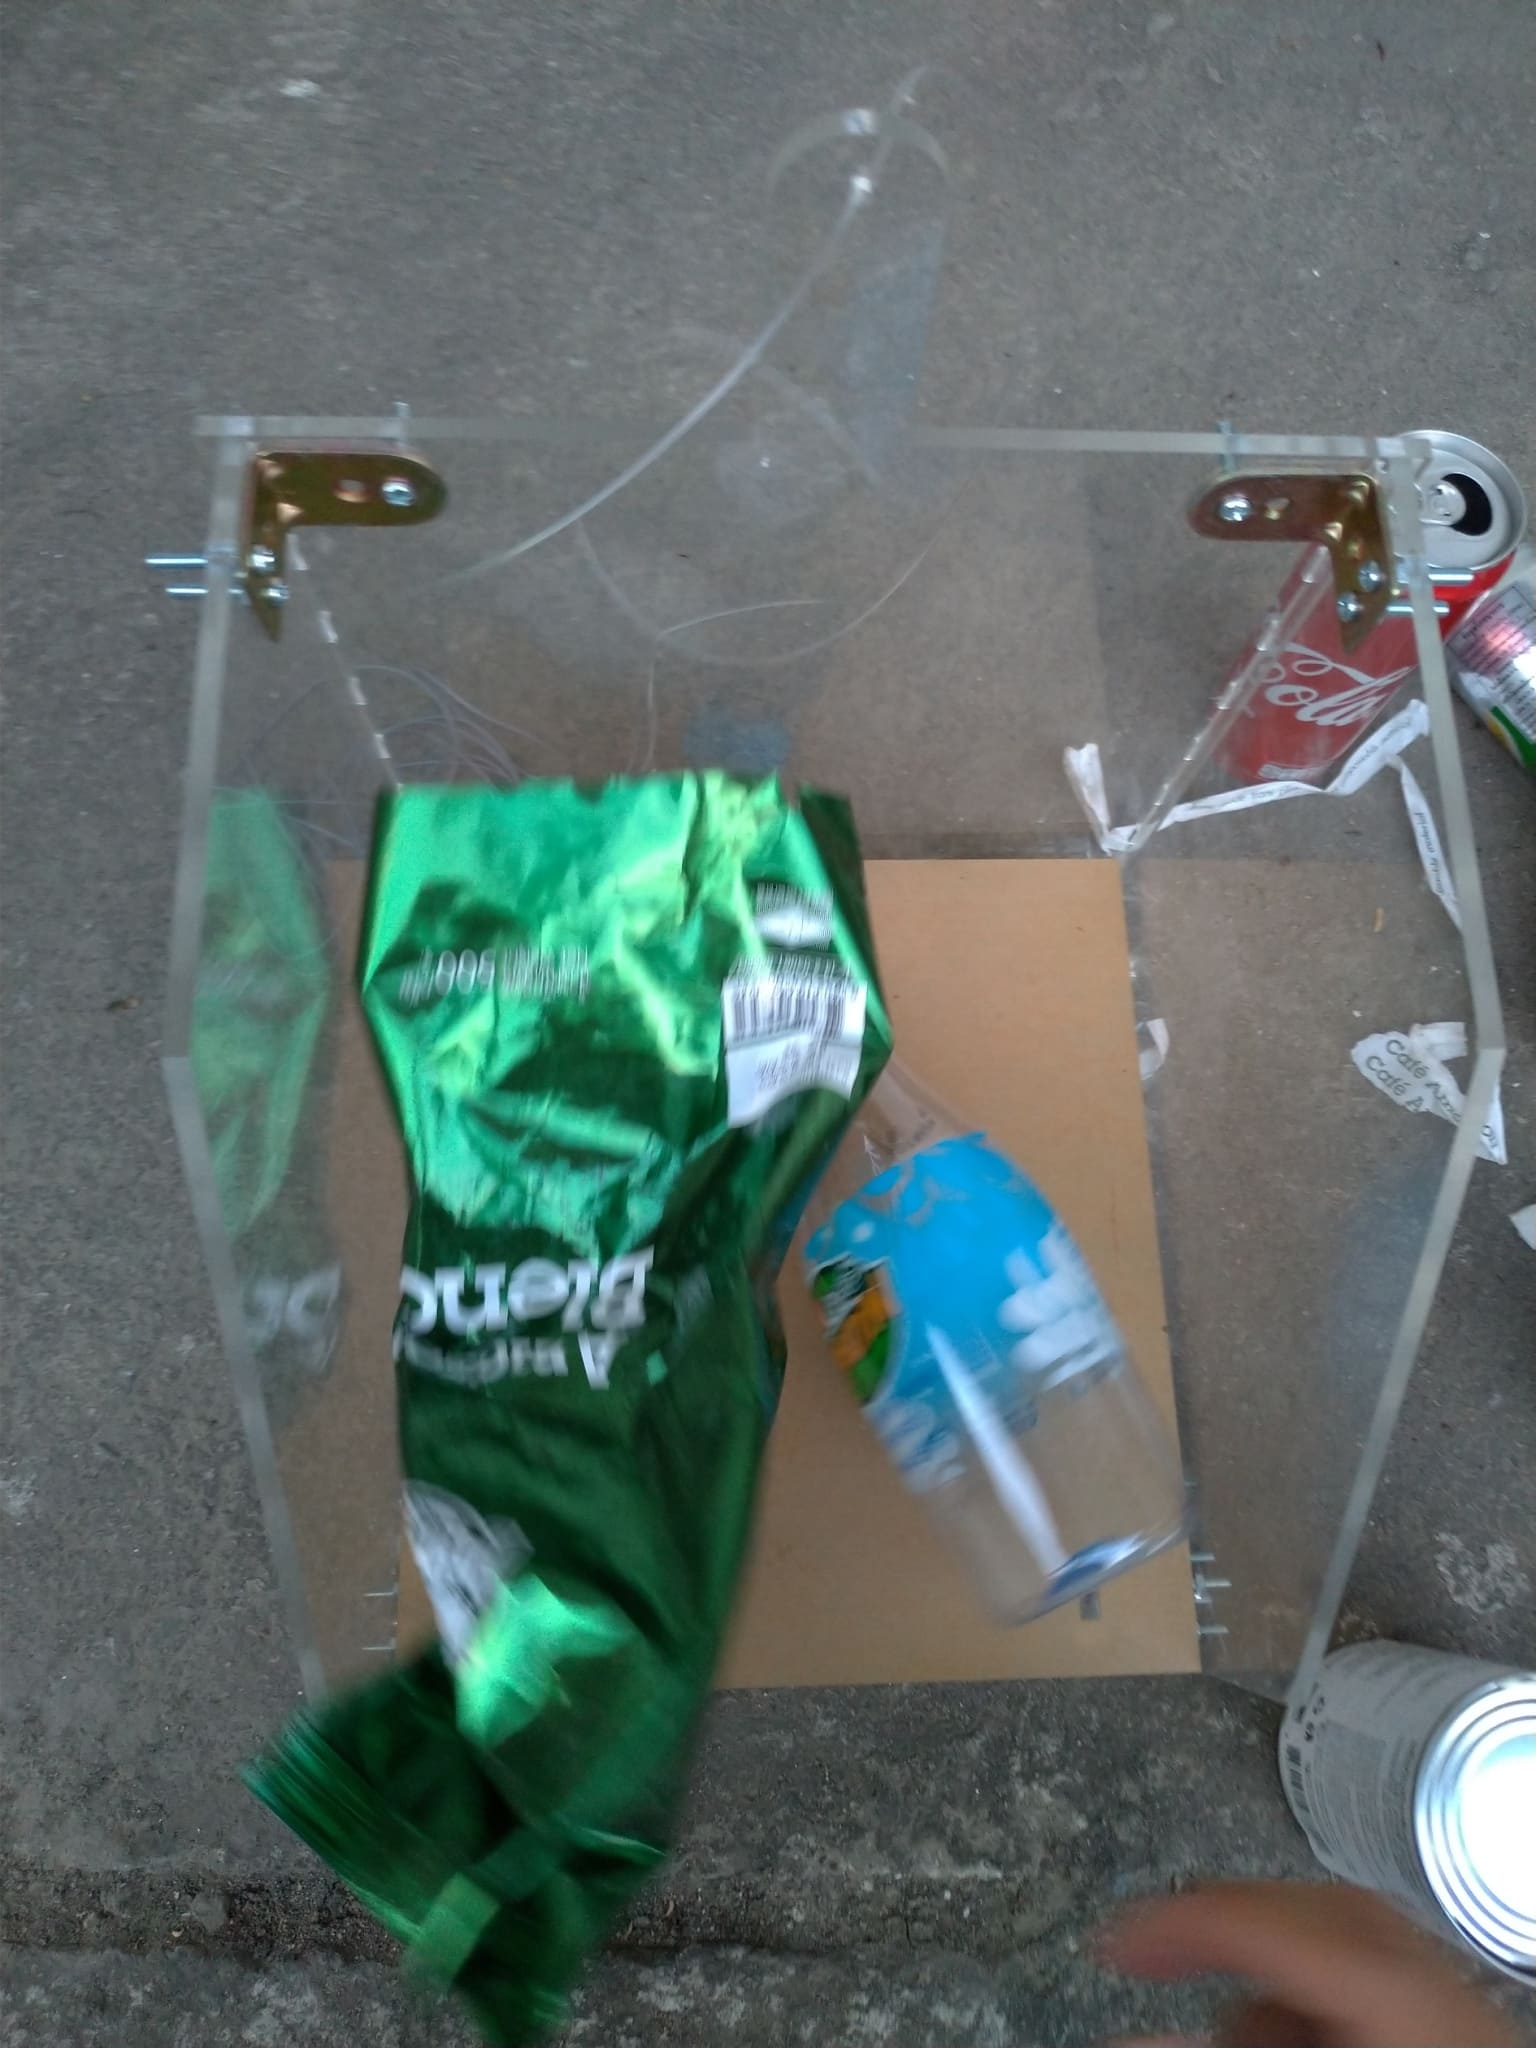AlCan: (1231, 432, 1528, 803), (1276, 1638, 1536, 1988)
Others: (244, 777, 883, 2048), (1070, 693, 1441, 877), (1357, 768, 1509, 1158)
PlasticBottle: (818, 1064, 1192, 1632)
